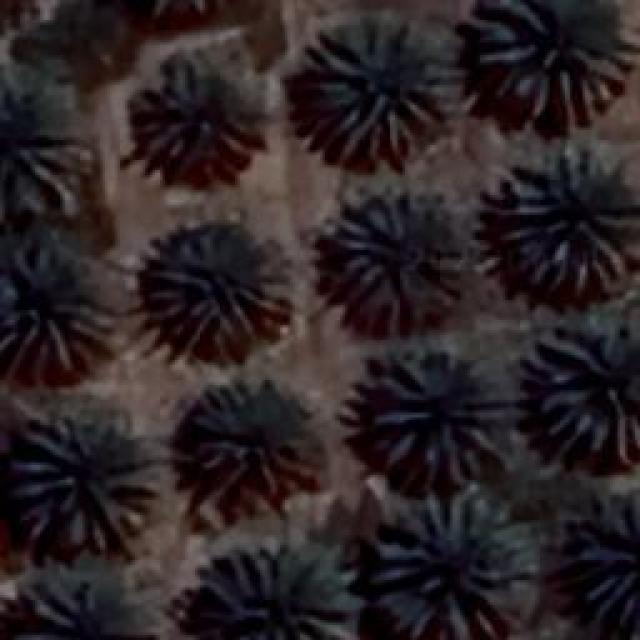PalmTree: (86, 9, 182, 602), (300, 17, 450, 165), (370, 488, 518, 638), (498, 145, 638, 293), (12, 415, 160, 550), (368, 350, 510, 488), (475, 0, 635, 120), (145, 227, 293, 355), (185, 380, 318, 515), (130, 50, 268, 180), (332, 192, 458, 332), (528, 320, 638, 462), (205, 542, 360, 638), (0, 242, 110, 370), (0, 62, 85, 206), (578, 490, 638, 630)
